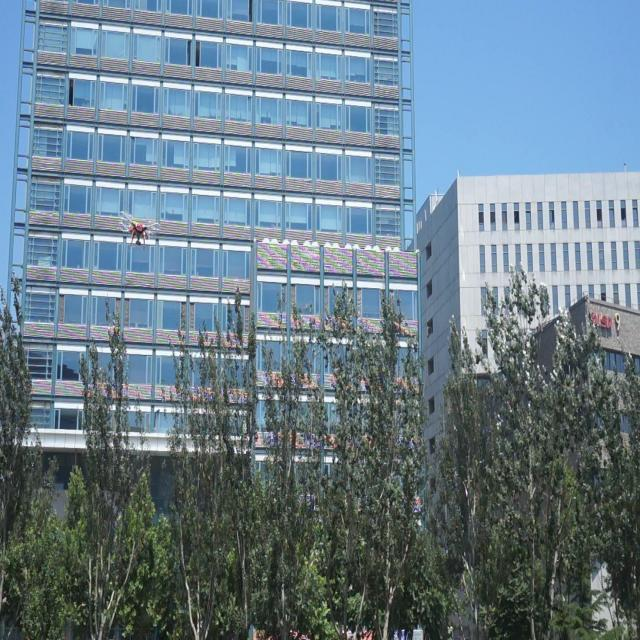UAV: (119, 210, 159, 252)
